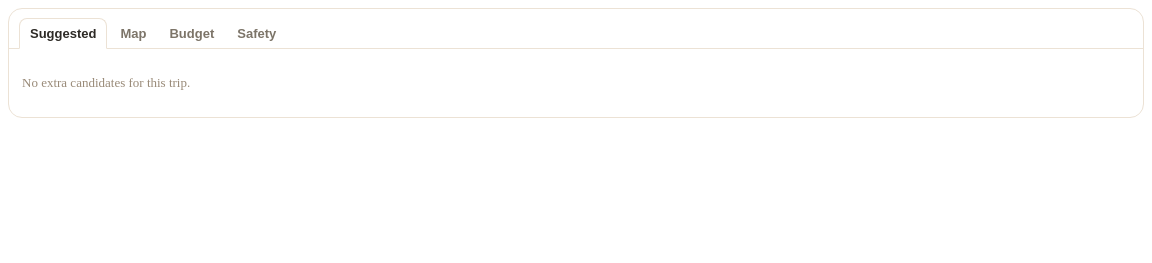
Test: #211: Safety tab renders trip/leg-level booking_links › null/absent categories (matching the real fixture shape, e.g. visa: null) render nothing for them — no fabrication, no crash
Click the button "Safety": (257, 33) [227, 18, 286, 48]
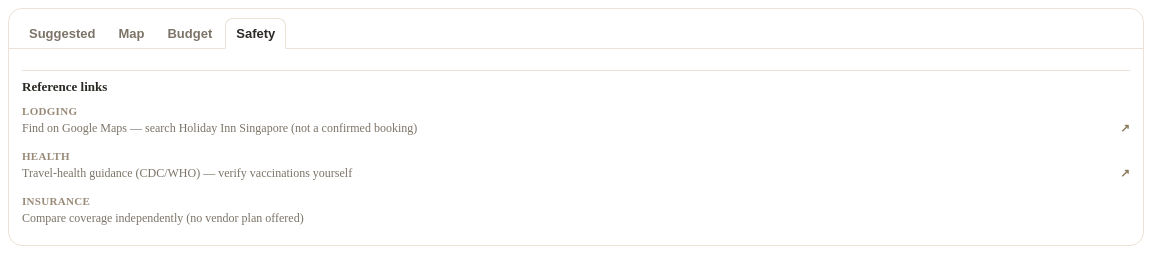
Now the element with test id "trip-booking-links" is shown, box [22, 70, 1130, 232]
Now the element with test id "booking-link-group-lodging" is shown, box [22, 97, 1130, 142]
Now the element with test id "booking-link-group-health" is shown, box [22, 142, 1130, 187]
